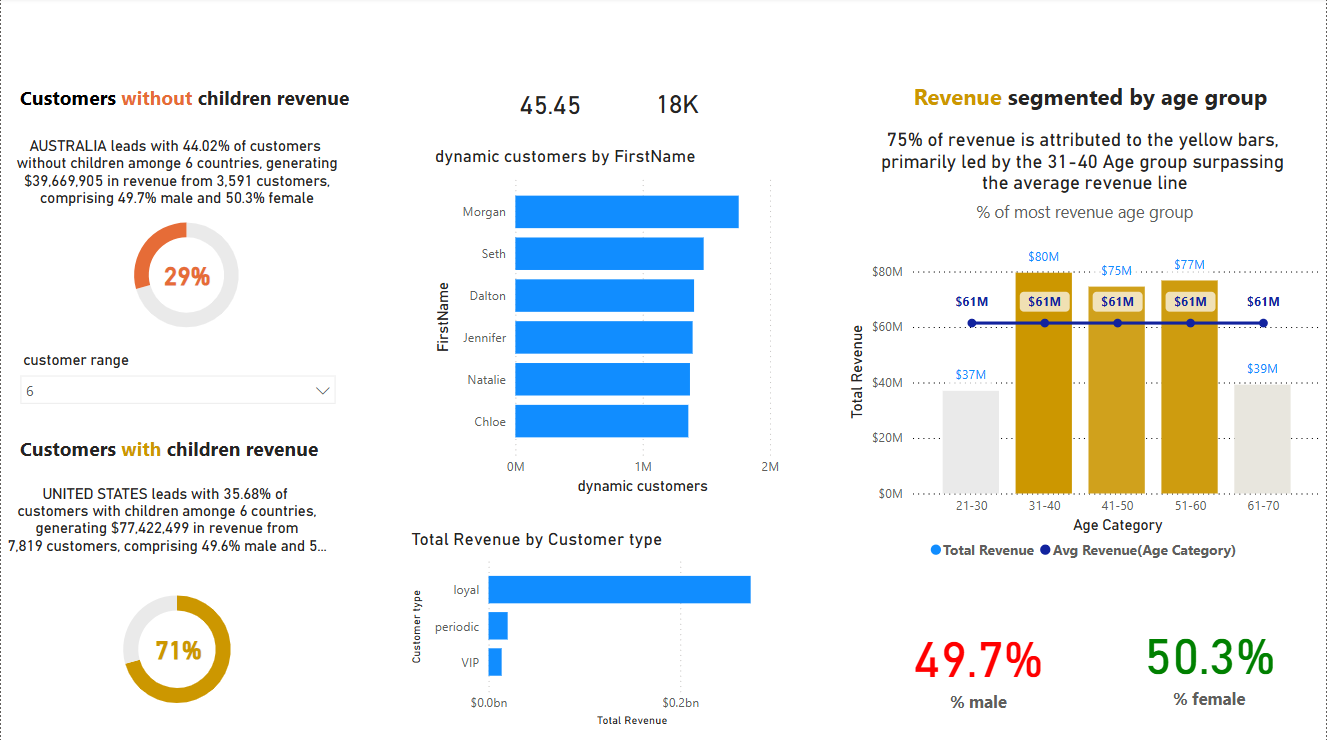

Layout of this report page (visuals, bound fields, positions):
{"tool":"powerbi","page":{"name":"Light theme","canvas":[1280,720],"ordinal":0},"visuals":[{"type":"lineStackedColumnComboChart","fields":{"Category":["DimCustomer.Age Category"],"Y":["Measures .Total Revenue"],"Y2":["Customer Measures.Avg Revenue(Age Category)"]},"box":[845.2,156,426.2,232.1],"z":0},{"type":"card","fields":{"Values":["Customer Measures.Measure"]},"box":[827.4,114.3,452.4,56],"z":1000},{"type":"textbox","box":[896.4,84.5,335.7,40.5],"z":2000},{"type":"pieChart","fields":{"Y":["Customer Measures.% CustomersWithChildren revenue","Customer Measures.% CustomersWithoutChildren revenue"]},"box":[89.3,225,251.2,160.7],"z":3000},{"type":"donutChart","fields":{"Y":["Customer Measures.% CustomersWithChildren revenue","Customer Measures.% CustomersWithoutChildren revenue"]},"box":[75,541.7,256,160.7],"z":4000},{"type":"card","fields":{"Values":["Customer Measures.% CustomersWithChildren revenue"]},"box":[165.5,594.1,75,56],"z":5000},{"type":"card","fields":{"Values":["Customer Measures.% CustomersWithoutChildren revenue"]},"box":[178.6,278.6,73.8,56],"z":6000},{"type":"textbox","box":[44,97.6,332.1,58.3],"z":7000},{"type":"textbox","box":[48.8,426.2,327.4,36.9],"z":8000},{"type":"card","fields":{"Values":["Customer Measures.Caption Customers without Children"]},"box":[32.1,129.8,344,95.2],"z":9000},{"type":"card","fields":{"Values":["Customer Measures.Caption Customers with Children"]},"box":[17.9,457.1,370.2,96.4],"z":10000},{"type":"clusteredBarChart","fields":{"Y":["Measures .Total Revenue"],"Category":["FactTable.Customer type"]},"box":[419.5,484.5,384.4,197.6],"z":11000},{"type":"clusteredColumnChart","fields":{"Category":["DimCustomer.FirstName"],"Y":["Measures .dynamic customers"]},"box":[419.5,155.6,384.4,316.7],"z":12000},{"type":"slicer","fields":{"Values":["customer range.customer range"]},"box":[632,88,158.3,51.4],"z":13000},{"type":"card","fields":{"Values":["Customer Measures.% female"]},"box":[1170.2,641.7,82.1,35.7],"z":14000},{"type":"card","fields":{"Values":["Customer Measures.% male"]},"box":[1170.7,529.2,73.1,25.7],"z":15000},{"type":"card","fields":{"Values":["Customer Measures.avg customer age"]},"box":[951.2,631,83.3,56],"z":16000},{"type":"card","fields":{"Values":["Customer Measures.number of customers"]},"box":[947.6,500,86.9,56],"z":17000},{"type":"textbox","box":[864.8,508.9,96.1,46],"z":18000},{"type":"textbox","box":[849.9,641.5,111,44.7],"z":19000},{"type":"textbox","box":[1161.2,610.4,100.1,39.2],"z":20000},{"type":"textbox","box":[1174.7,495.3,73.1,36.5],"z":21000},{"type":"textbox","box":[443.9,92,188.1,43.3],"z":22000},{"type":"textbox","box":[1085.4,415.5,158.3,69],"z":23000},{"type":"slicer","fields":{"Values":["DimGeography.Country"]},"box":[1052.4,8.3,160.7,65.5],"z":24000},{"type":"textbox","box":[74.4,6.8,286.9,65],"z":25000},{"type":"image","box":[17.6,4.1,56.8,60.9],"z":26000},{"type":"shape","box":[475,7.1,141.7,58.3],"z":27000},{"type":"shape","box":[419.5,461.5,384.4,44.7],"z":27001}]}

Visuals, with their boxes in screenshot pixels (x1, y1, x2, y2), scaled from the page's 1280x720 canvas onto the 1327x742 screenshot:
lineStackedColumnComboChart - DimCustomer.Age Category x Measures .Total Revenue: 876,161,1318,400
card - Customer Measures.Measure: 858,118,1326,176
textbox: 929,87,1277,129
pieChart - Customer Measures.% CustomersWithChildren revenue x Customer Measures.% CustomersWithoutChildren revenue: 93,232,353,397
donutChart - Customer Measures.% CustomersWithChildren revenue x Customer Measures.% CustomersWithoutChildren revenue: 78,558,343,724
card - Customer Measures.% CustomersWithChildren revenue: 172,612,249,670
card - Customer Measures.% CustomersWithoutChildren revenue: 185,287,262,345
textbox: 46,101,390,161
textbox: 51,439,390,477
card - Customer Measures.Caption Customers without Children: 33,134,390,232
card - Customer Measures.Caption Customers with Children: 19,471,402,570
clusteredBarChart - Measures .Total Revenue x FactTable.Customer type: 435,499,833,703
clusteredColumnChart - DimCustomer.FirstName x Measures .dynamic customers: 435,160,833,487
slicer - customer range.customer range: 655,91,819,144
card - Customer Measures.% female: 1213,661,1298,698
card - Customer Measures.% male: 1214,545,1289,572
card - Customer Measures.avg customer age: 986,650,1072,708
card - Customer Measures.number of customers: 982,515,1072,573
textbox: 897,524,996,572
textbox: 881,661,996,707
textbox: 1204,629,1308,669
textbox: 1218,510,1294,548
textbox: 460,95,655,139
textbox: 1125,428,1289,499
slicer - DimGeography.Country: 1091,9,1258,76
textbox: 77,7,375,74
image: 18,4,77,67
shape: 492,7,639,67
shape: 435,476,833,522
